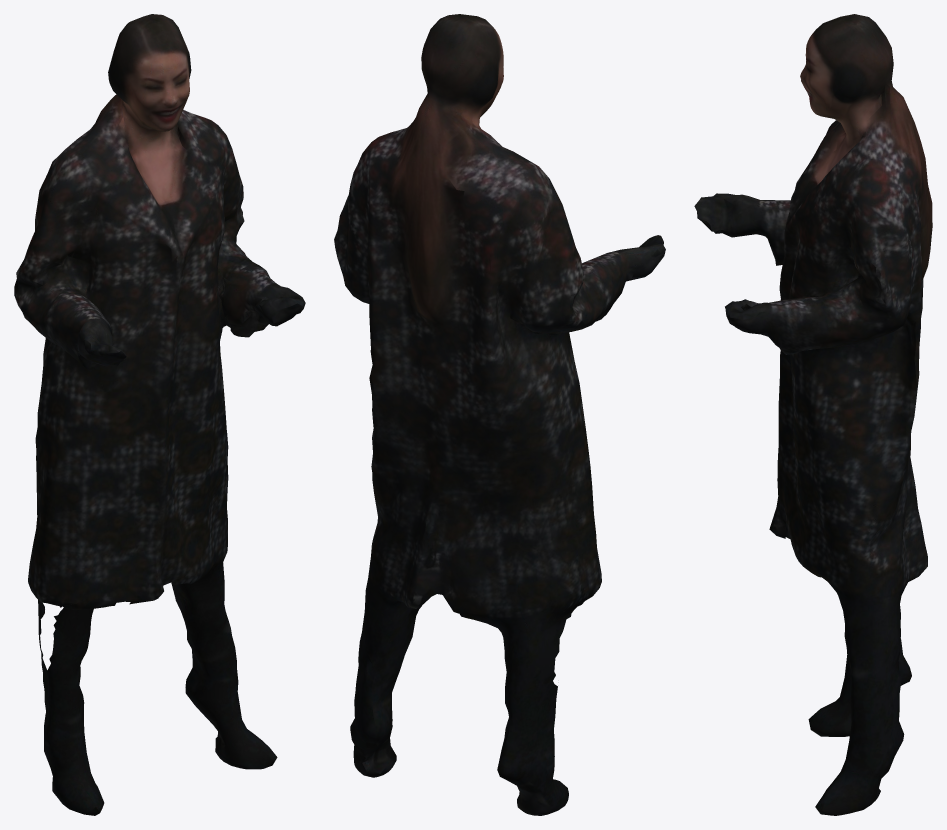
Rendered from evercoast.0109.gltf.
The picture shows the model from 3 angles, left to right: view 1: azimuth 30°, elevation 25°; view 2: azimuth 150°, elevation 25°; view 3: azimuth 270°, elevation 25°; orthographic projection. The views are drawn at different scales.
Parts seen in each view (by area): view 1: HIGH; view 2: HIGH; view 3: HIGH.
Boxes of the visible parts, x1=… form: HIGH: x1=14, y1=14, x2=305, y2=815; HIGH: x1=334, y1=14, x2=665, y2=815; HIGH: x1=694, y1=14, x2=932, y2=815.
Bounding box in the file's own units: 0.6068 × 1.83 × 0.5243.
1 material, 1 textured.
